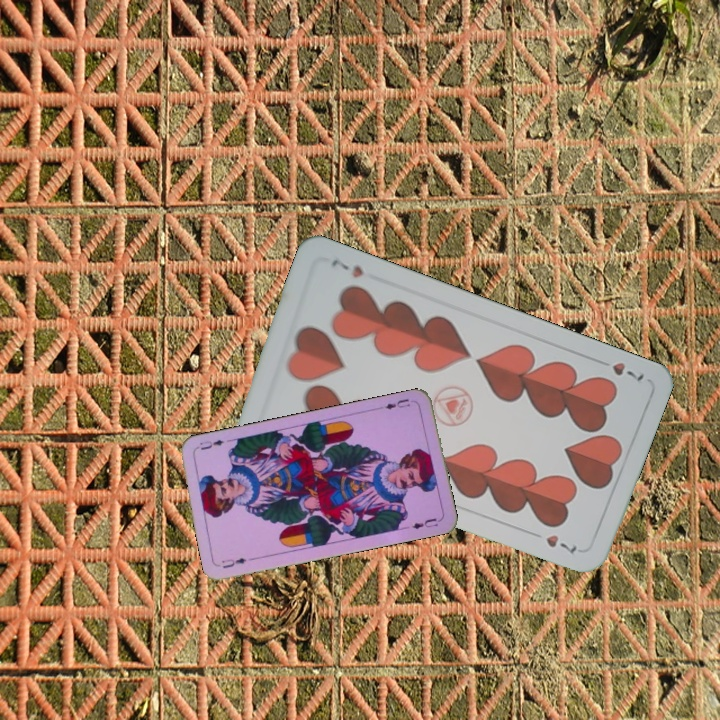EU: (377, 395, 413, 412), (217, 553, 249, 571)
H7: (592, 355, 646, 384)
